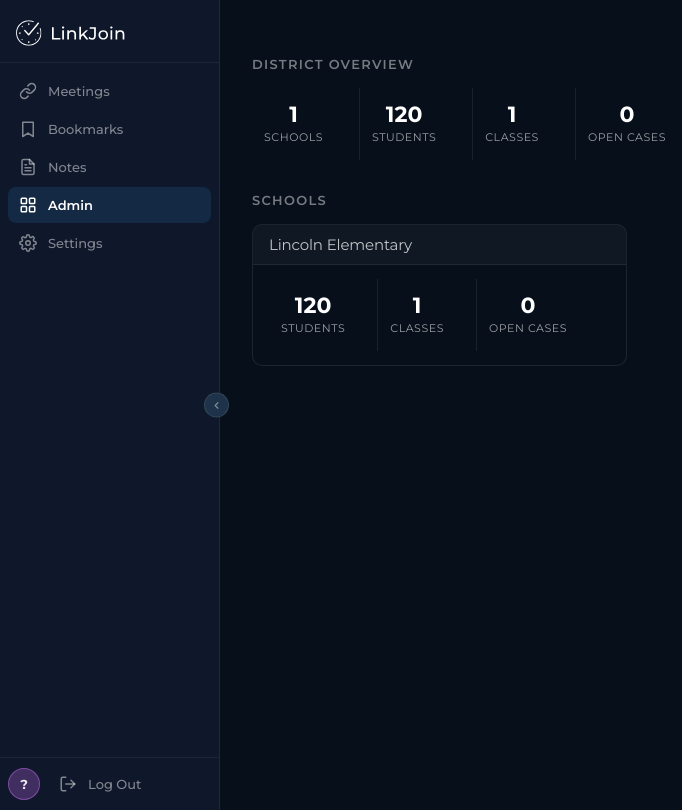
DistrictAdminView › drills into a school to show its classes
Click the text "Lincoln Elementary" at (341, 244), box [269, 235, 412, 254]
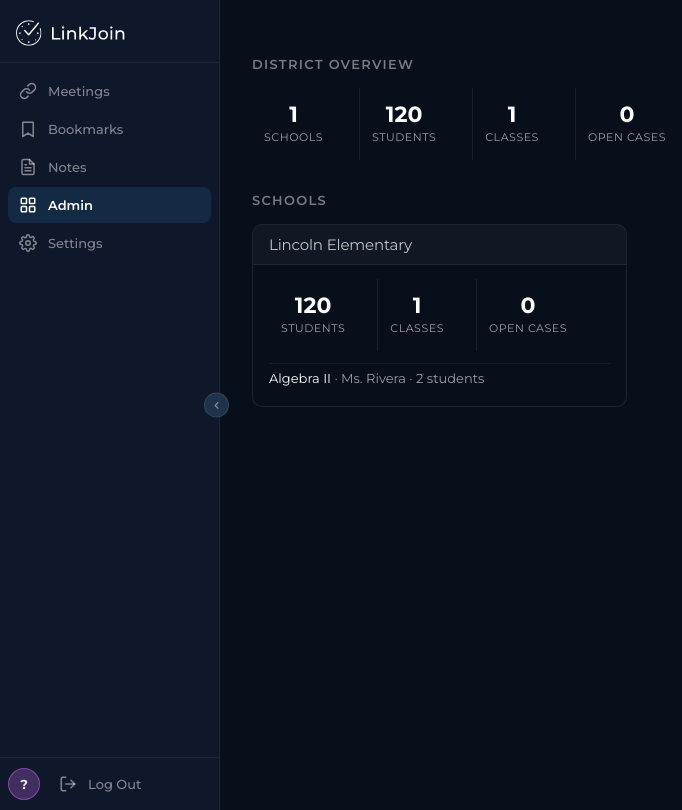
expect the text "Algebra II" is shown: met, box [269, 370, 331, 386]
expect the text "· Ms. Rivera · 2 students" is shown: met, box [331, 370, 484, 386]
